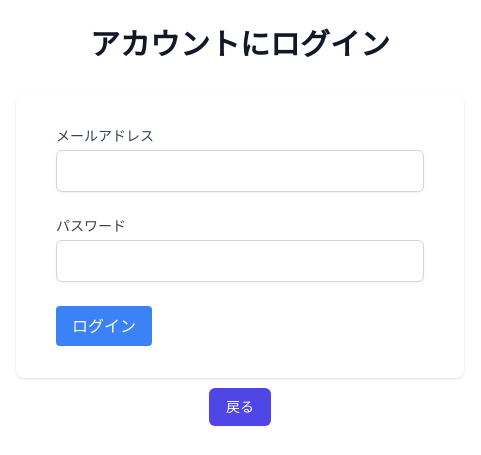
Scenario: ログインページ › 誤ったメールアドレスとパスワードでログインすると、エラーが表示されるか
Type "fail@example.com" into the field labelled "メールアドレス".
click(240, 171); type("fail@example.com")  # box [56,150,424,192]
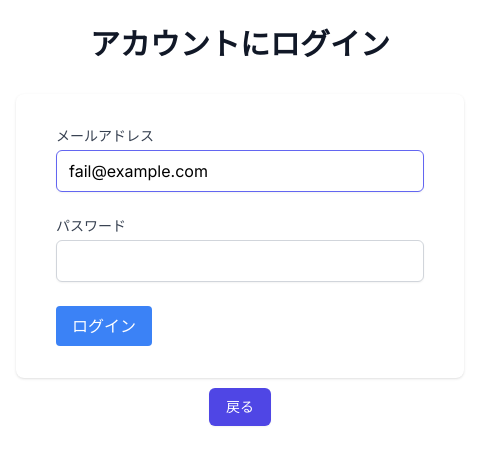
Type "failpass" into the password field labelled "パスワード".
click(240, 261); type("failpass")  # box [56,240,424,282]
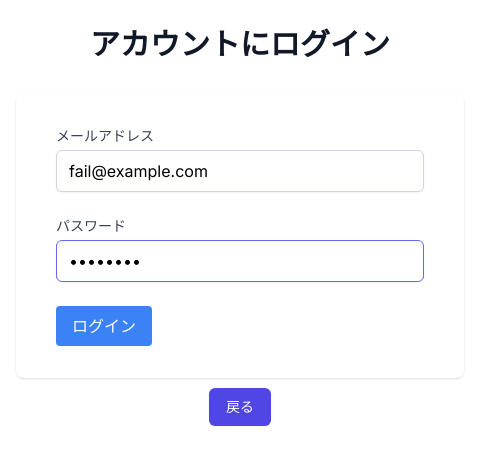
Click the button with aria-label "login".
click(104, 326)  # box [56,306,152,346]
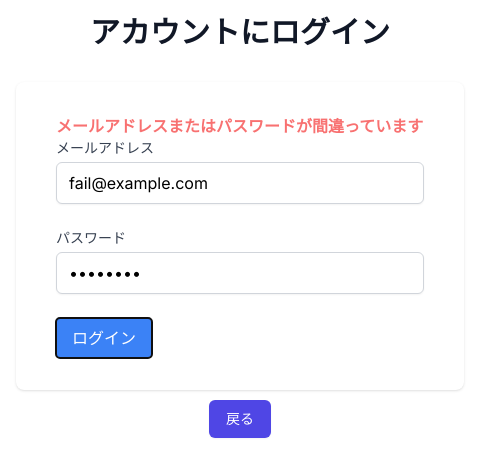
Expected: the text "ログイン" is shown, [72,326,136,350]
Expected: the text "メールアドレスまたはパスワードが間違っています" is shown, [56,114,424,138]
Expected: the text with test id "errorMsg" reads "メールアドレスまたはパスワードが間違っています", [56,116,423,136]
